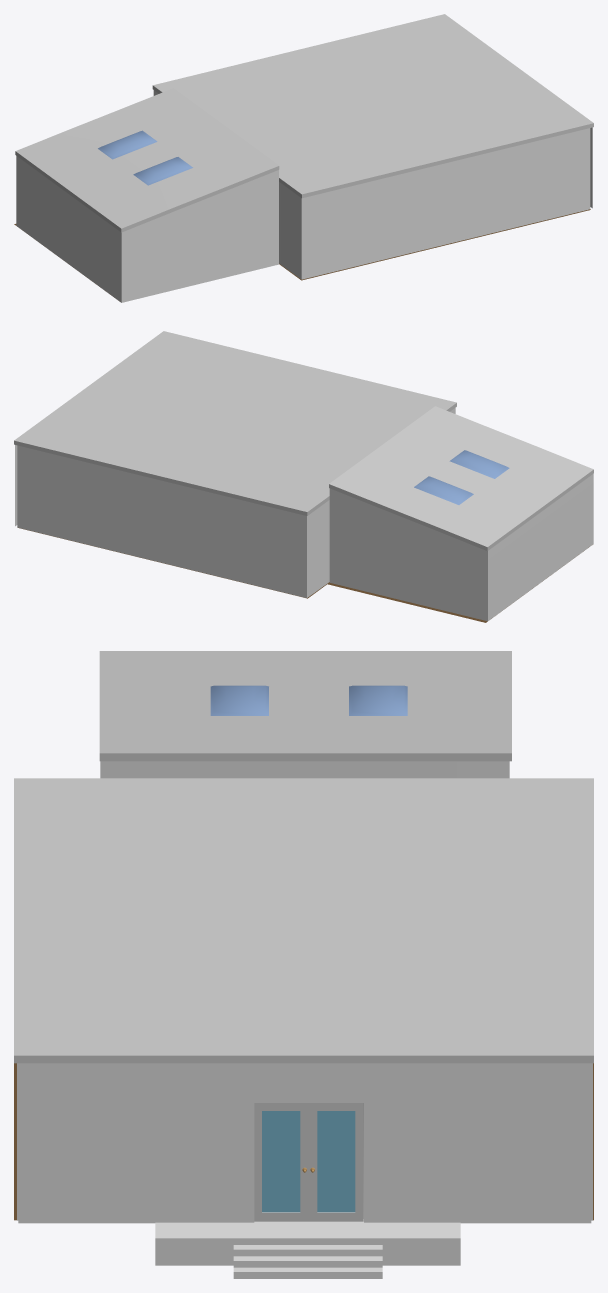
Rendered from StudioGallery.fbx.
3 renders of one model, top to bottom at view 1: azimuth 30°, elevation 25°; view 2: azimuth 150°, elevation 25°; view 3: azimuth 270°, elevation 25°, orthographic. The views are drawn at different scales.
Visible parts, largest first — view 1: Ceiling, Walls, Floor; view 2: Ceiling, Walls, Floor; view 3: Ceiling, Walls, Stairs, Door_L, Door_R.
Part boxes in pixels (bbox=[...]): Ceiling: bbox=[15, 14, 593, 232]; Walls: bbox=[16, 90, 592, 302]; Floor: bbox=[14, 209, 590, 294]; Ceiling: bbox=[14, 331, 593, 550]; Walls: bbox=[15, 408, 593, 621]; Floor: bbox=[18, 527, 588, 622]; Ceiling: bbox=[14, 651, 593, 1063]; Walls: bbox=[17, 761, 592, 1223]; Stairs: bbox=[155, 1220, 460, 1278]; Door_L: bbox=[308, 1103, 363, 1221]; Door_R: bbox=[254, 1103, 308, 1221].
Size of the model in its own units: 4922 by 1102 by 2644.
